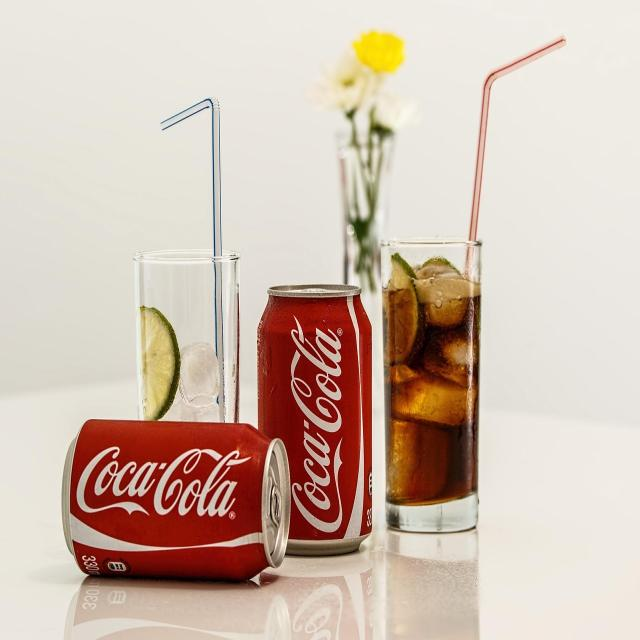coca cola: (284, 313, 353, 538), (73, 442, 250, 523)
